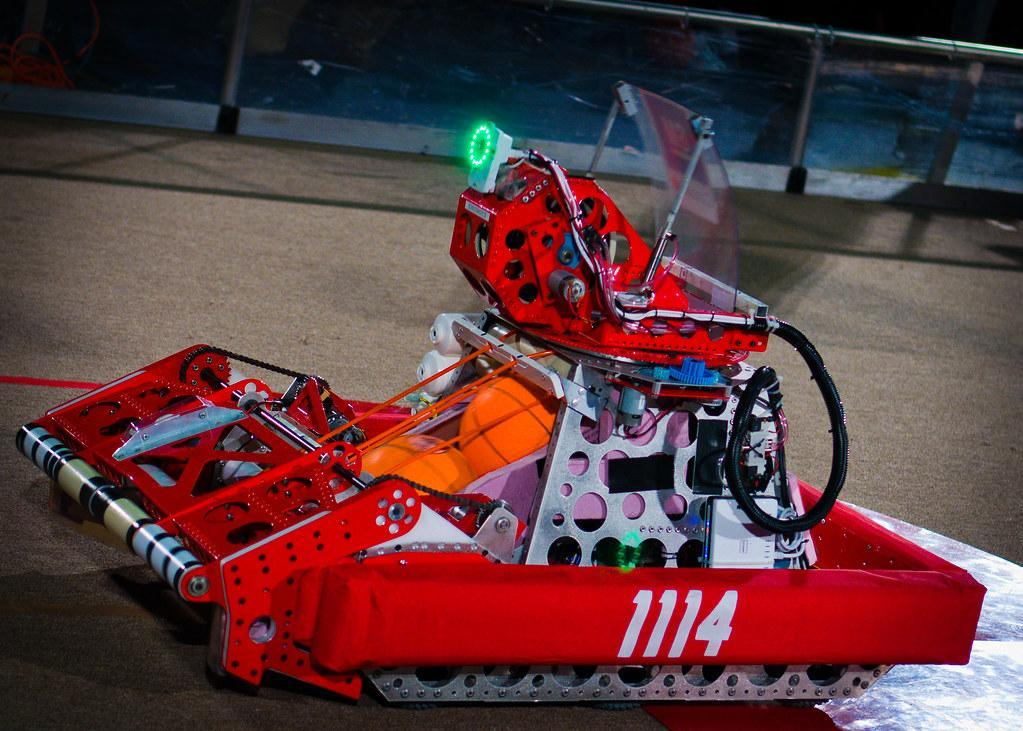robot: (17, 71, 990, 717)
